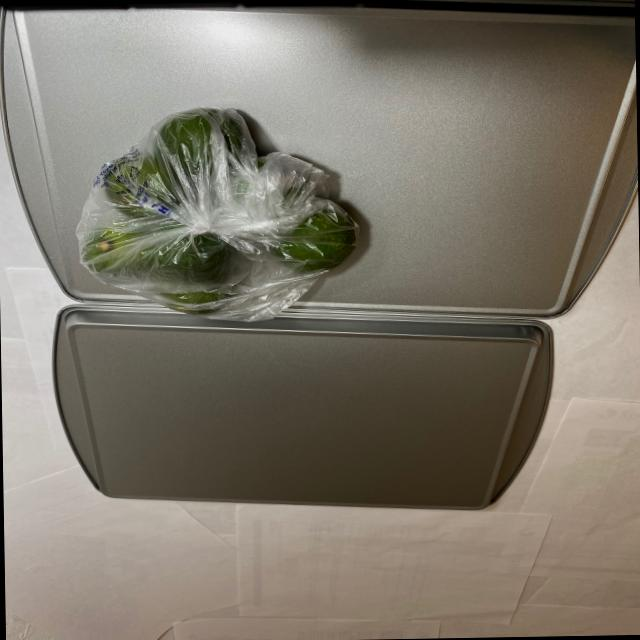lemon: (84, 106, 358, 311)
